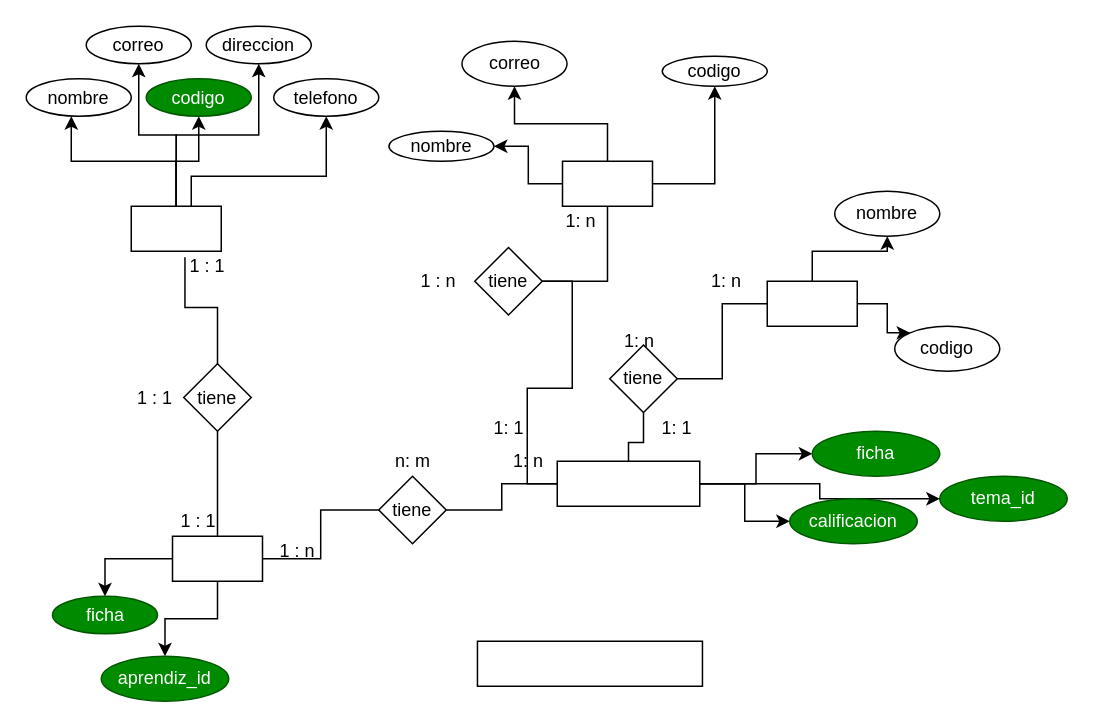
Image size: 1094x728. Some labels were removed from this diagram. The centre of each missing label's shape, as x and y in pixels:
aprendiz: point 175,228
instructor: point 606,183
matricula: point 216,558
matricula_tema: point 628,483
matricula_tema_detalle: point 589,663
tema: point 811,303
